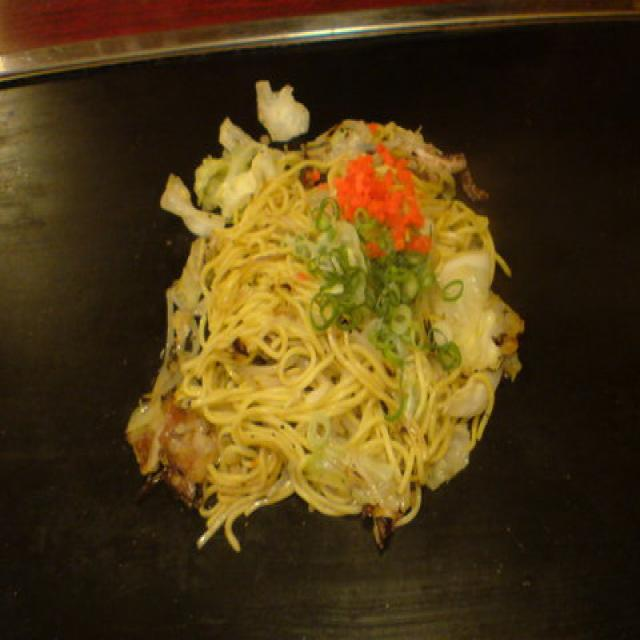面条主食: (92, 80, 528, 539)
